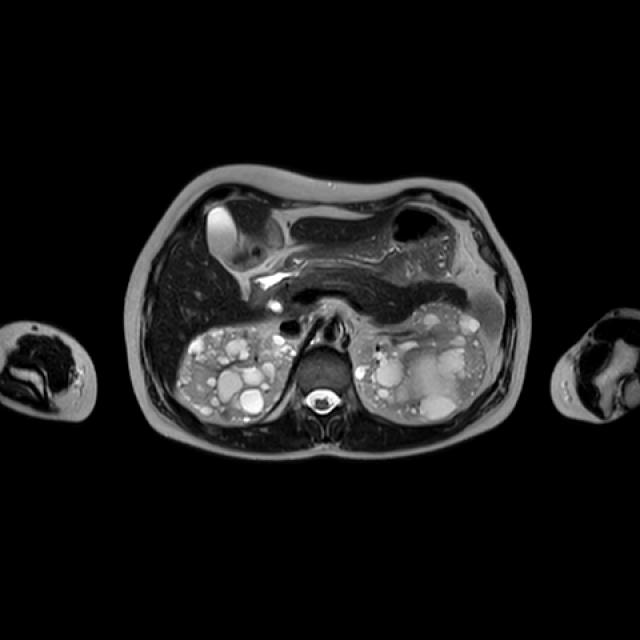sag: (177, 324, 299, 422)
sol: (355, 301, 487, 421)
